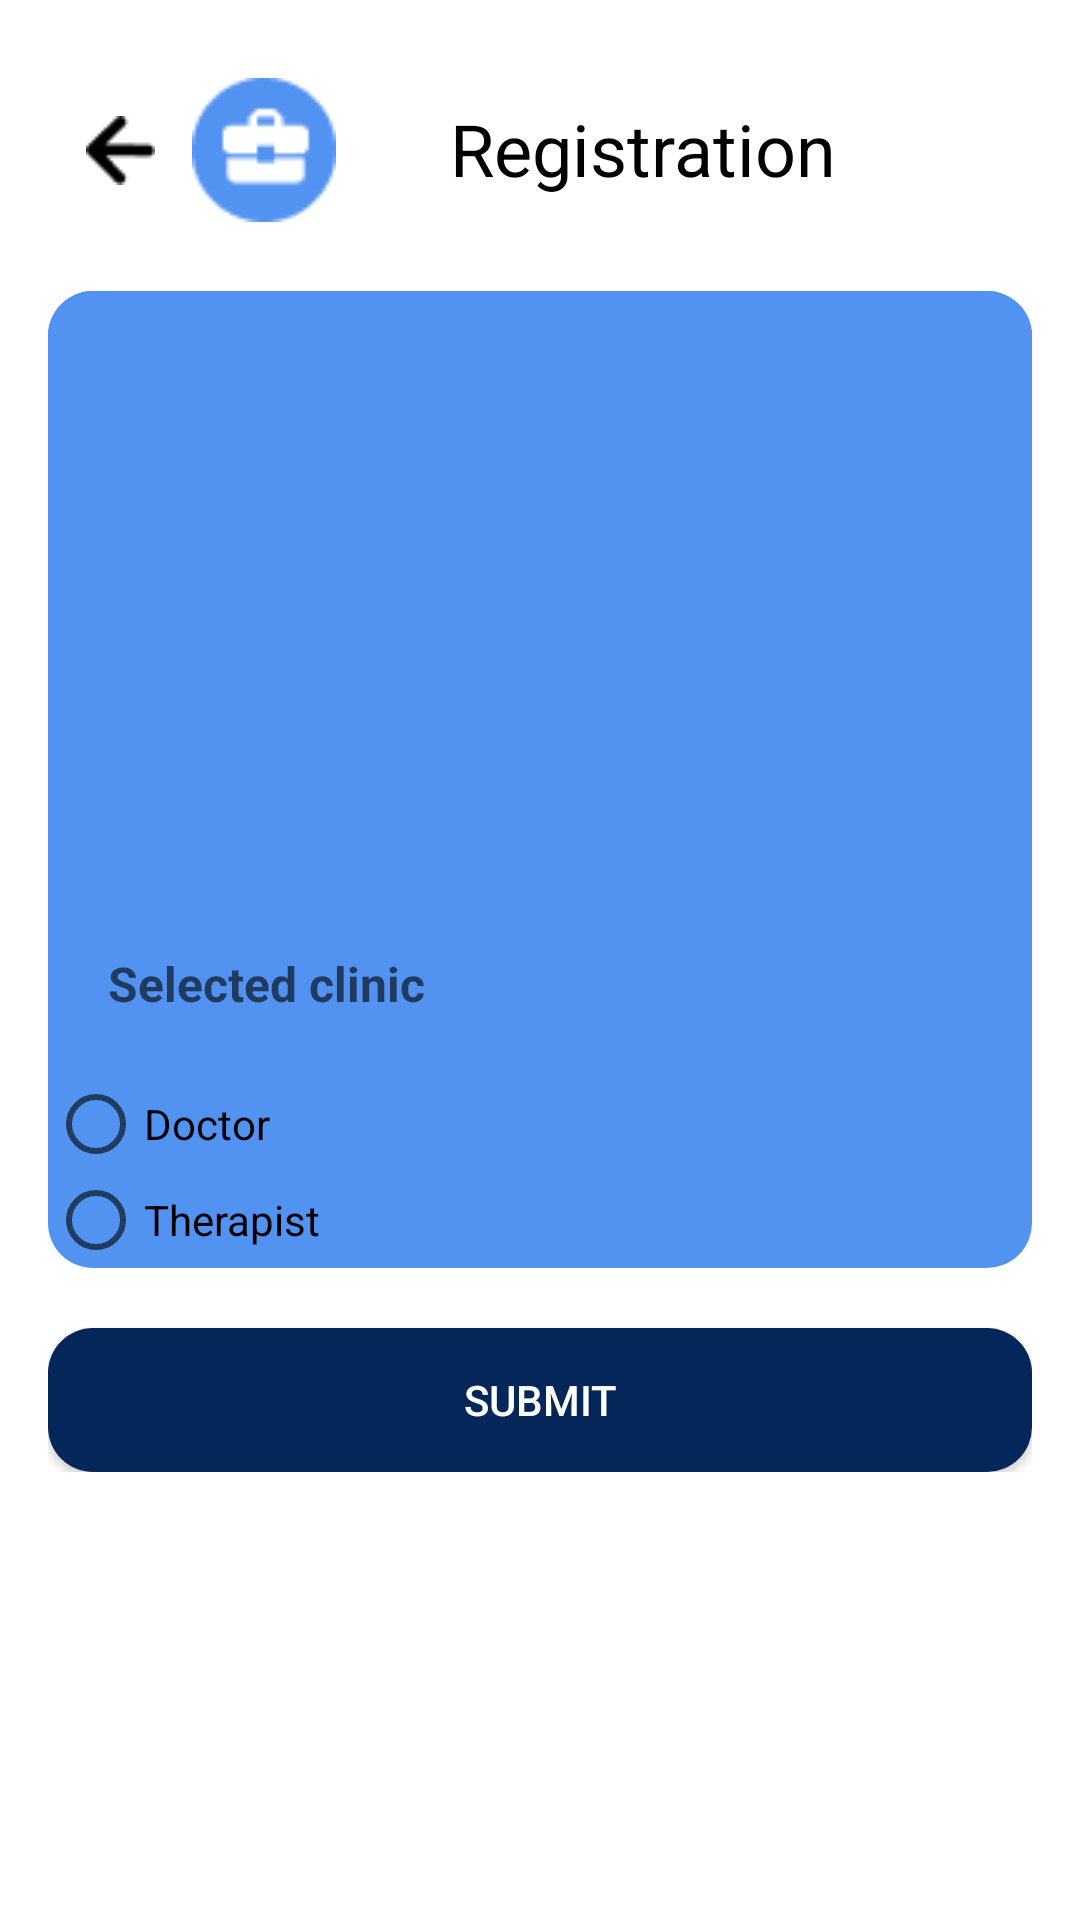

Icons on this 1080×1920 Android screen, each with its box as box=[x1, y1, x2, y2]:
back arrow: box=[86, 116, 155, 185]
briedcase: box=[192, 78, 336, 222]
